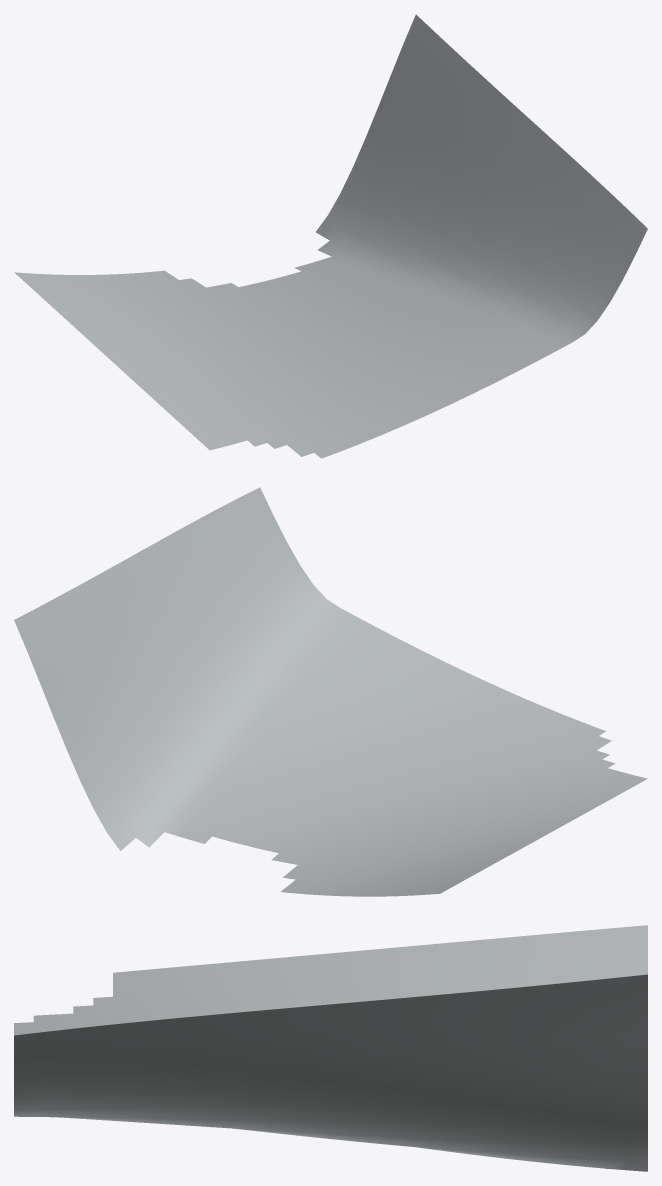
The model's file is alpine-11-8.glb.
The picture shows the model from 3 angles, top to bottom: view 1: azimuth 30°, elevation 25°; view 2: azimuth 150°, elevation 25°; view 3: azimuth 270°, elevation 25°; orthographic projection. The views are drawn at different scales.
Parts seen in each view (by area): view 1: alpine-11-8; view 2: alpine-11-8; view 3: alpine-11-8.
Boxes of the visible parts, left/top/right/bottom form: alpine-11-8: left=14, top=14, right=647, bottom=458; alpine-11-8: left=14, top=487, right=647, bottom=896; alpine-11-8: left=14, top=925, right=647, bottom=1171.
Bounding box in the file's own units: 256 × 120 × 256.
Materials: 1 (1 with a texture image).
